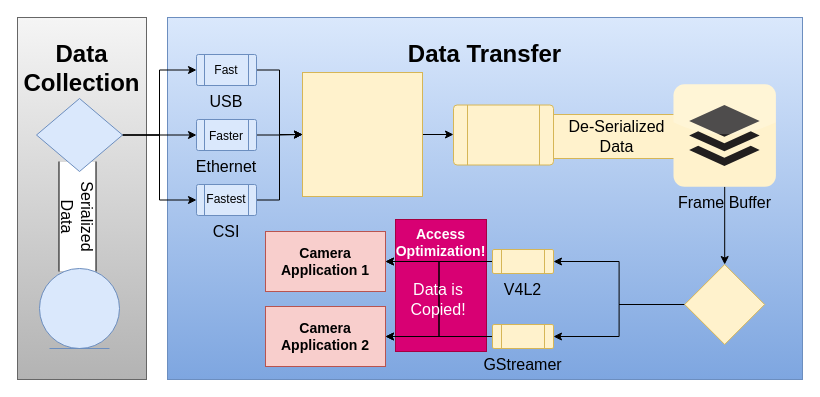
Image size: 820x397. Some labels were removed from this diagram. The centre of each missing label's shape, as x and y in pixels:
"Autonomous Vehicle Operating System" belongs at point 362,134.
"Camera" belongs at point 79,308.
"Camera Driver" belongs at point 503,134.
"Physical Interface" belongs at point 79,135.
"Video API" belongs at point 724,304.
